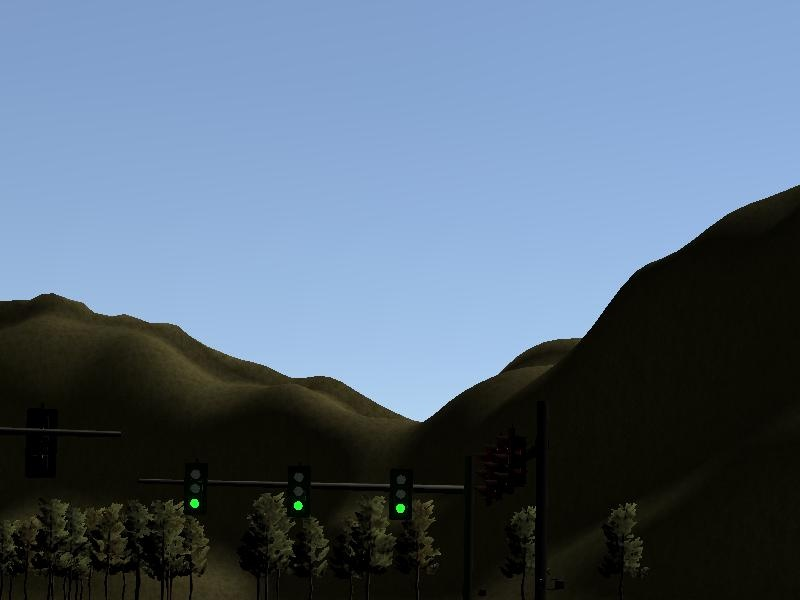GREEN: (287, 469, 310, 516), (184, 465, 206, 512), (392, 470, 411, 518)
